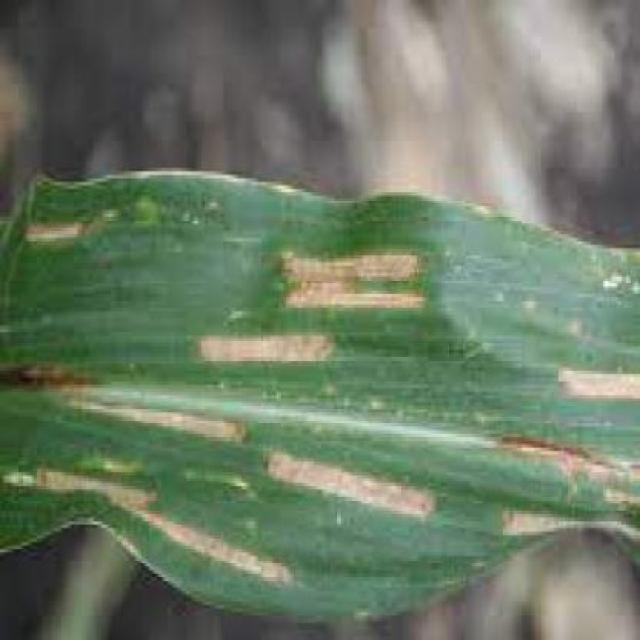Corn_Grey_Leaf_Spot: (17, 168, 640, 606)
